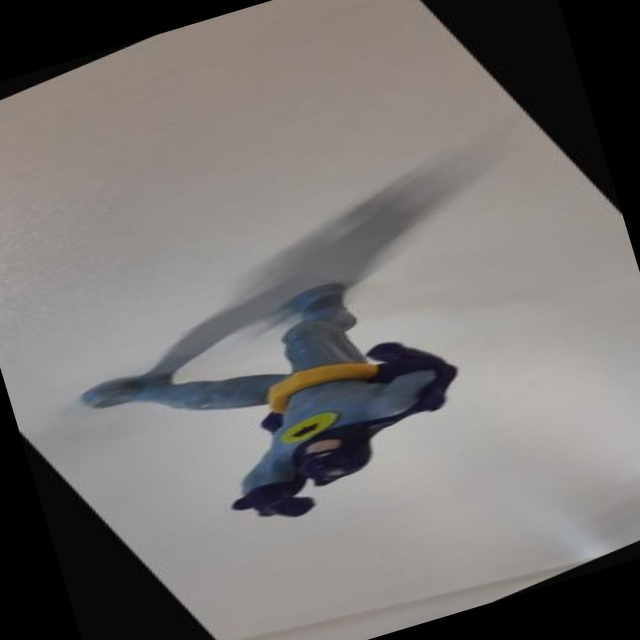Batman: (24, 166, 604, 599)
